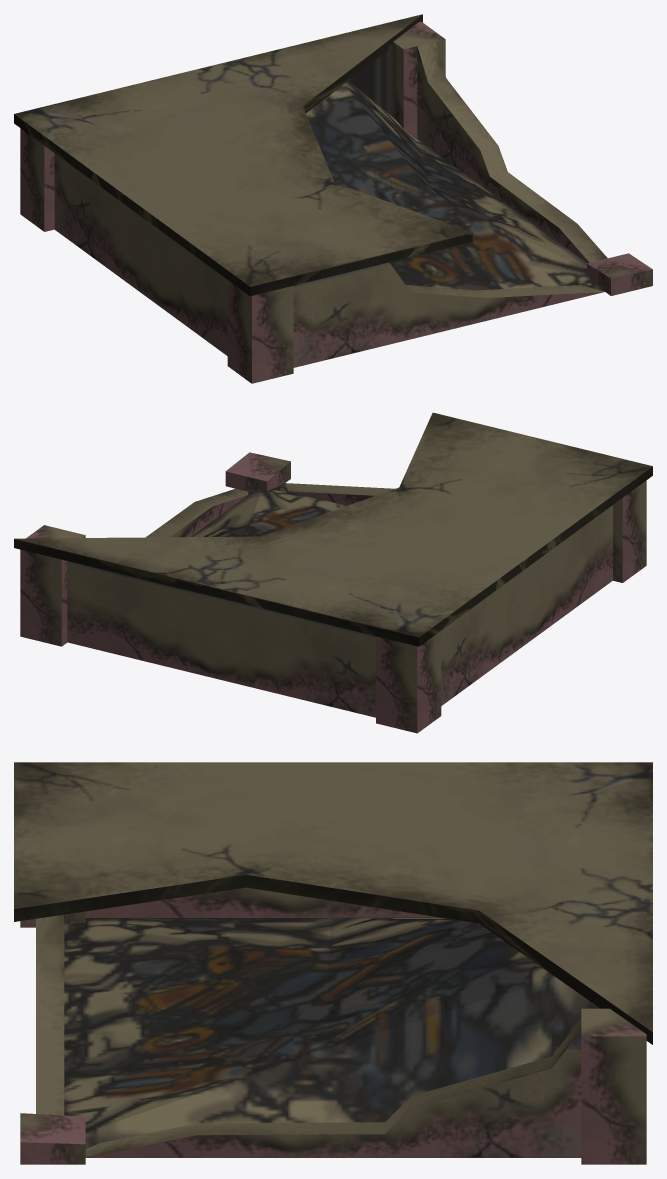
Rendered from Building03_floor2.FBX.
The picture shows the model from 3 angles, top to bottom: view 1: azimuth 30°, elevation 25°; view 2: azimuth 150°, elevation 25°; view 3: azimuth 270°, elevation 25°; orthographic projection. The views are drawn at different scales.
Visible parts, largest first — view 1: floor2; view 2: floor2; view 3: floor2.
Part boxes in pixels (x1,y1,x2,y2): floor2: (14, 14, 652, 383); floor2: (14, 412, 652, 733); floor2: (14, 762, 652, 1164).
Bounding box in the file's own units: 9.02 × 2.1 × 9.02.
